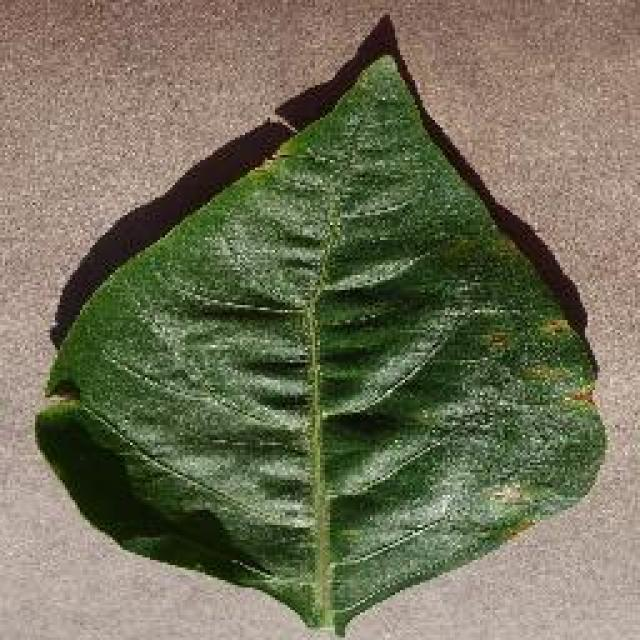Chilli_Bacterial_Spot: (32, 15, 612, 637), (480, 312, 600, 410), (515, 355, 573, 390), (487, 478, 525, 508), (45, 377, 80, 405), (482, 325, 512, 355), (565, 380, 597, 408), (540, 312, 570, 338)
